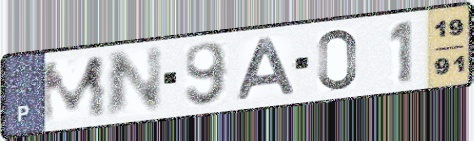0: (316, 27, 359, 92)
1: (388, 19, 415, 86)
9: (183, 41, 230, 108)
A: (236, 36, 300, 103)
M: (38, 53, 110, 127)
N: (103, 44, 165, 121)
